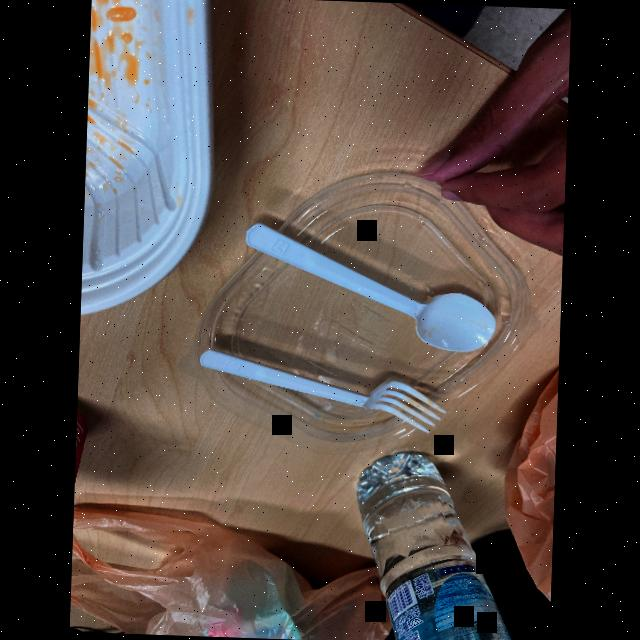plastic_cultery: (237, 202, 497, 371), (192, 337, 442, 439)
